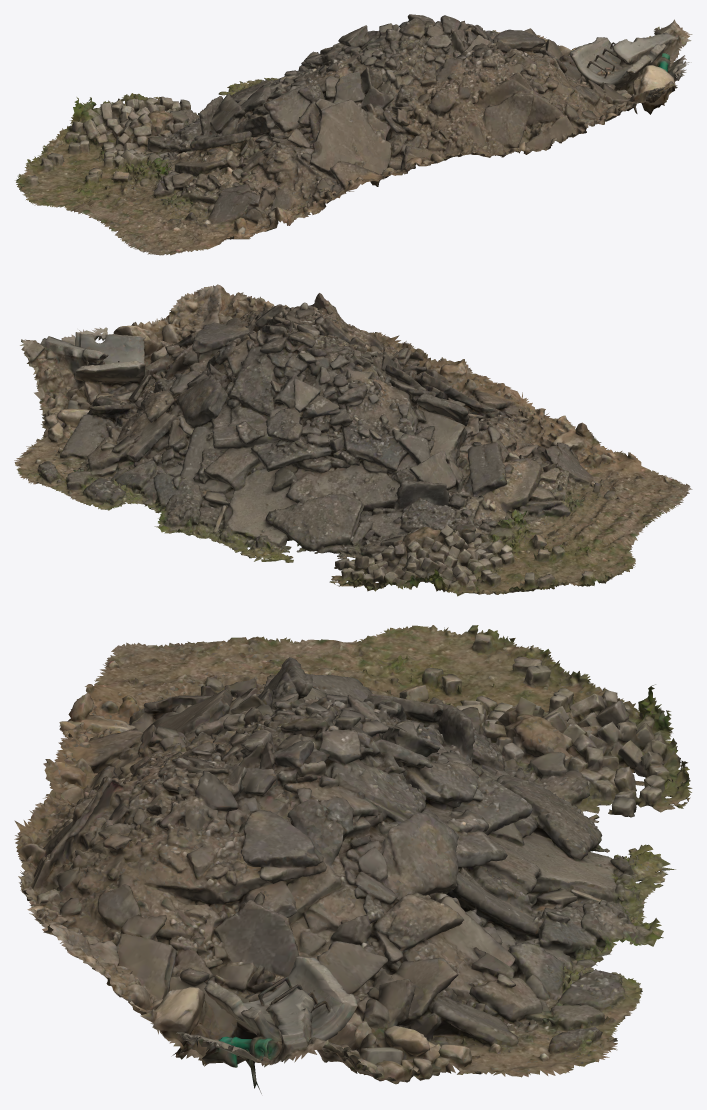
Rendered from escombro.glb.
3 renders of one model, top to bottom at view 1: azimuth 30°, elevation 25°; view 2: azimuth 150°, elevation 25°; view 3: azimuth 270°, elevation 25°, orthographic. The views are drawn at different scales.
Parts seen in each view (by area): view 1: Object_2; view 2: Object_2; view 3: Object_2.
Part boxes in pixels (bbox=[...]): Object_2: bbox=[15, 14, 692, 255]; Object_2: bbox=[14, 284, 692, 596]; Object_2: bbox=[14, 625, 692, 1093].
Size of the model in its own units: 43.13 by 8.18 by 24.45.
1 material, 1 textured.
